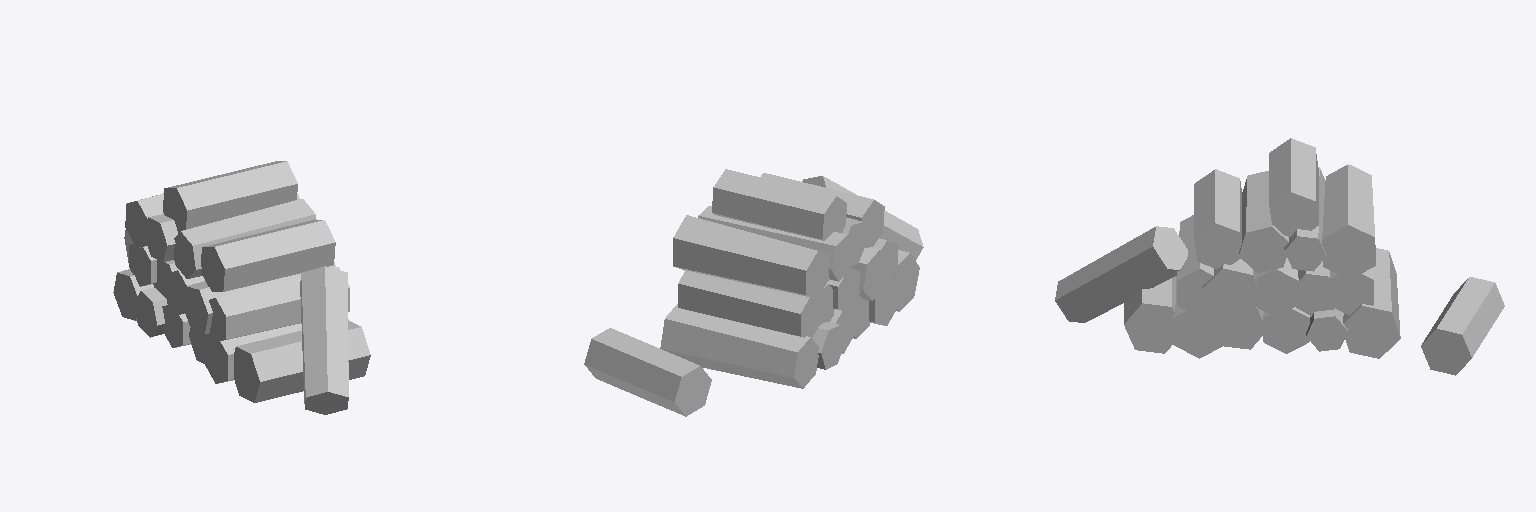
File: log_004.obj
3 views of the same model, side by side, from view 1: azimuth 30°, elevation 25°; view 2: azimuth 150°, elevation 25°; view 3: azimuth 270°, elevation 25° (orthographic).
Visible parts, largest first — view 1: log_004; view 2: log_004; view 3: log_004.
Part boxes in pixels (x1,y1,x2,y2): log_004: (113, 161, 370, 414); log_004: (584, 169, 923, 416); log_004: (1055, 138, 1504, 375).
Size of the model in its own units: 0.6107 by 0.5442 by 1.35.